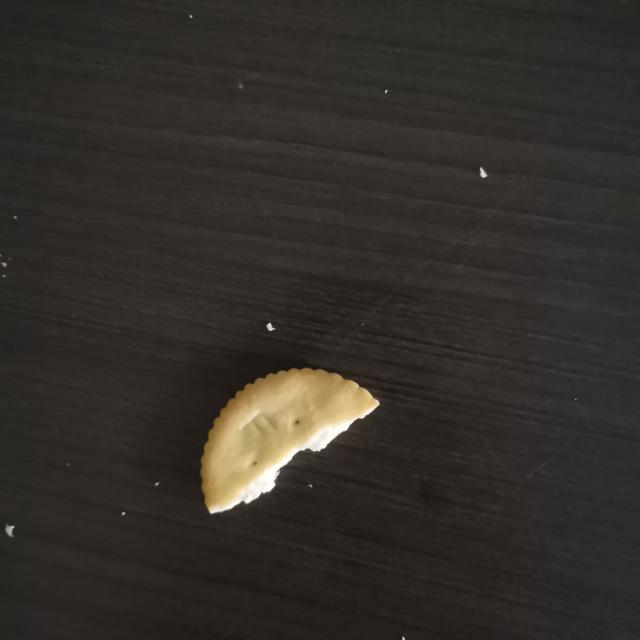Broken: (199, 365, 381, 515)
